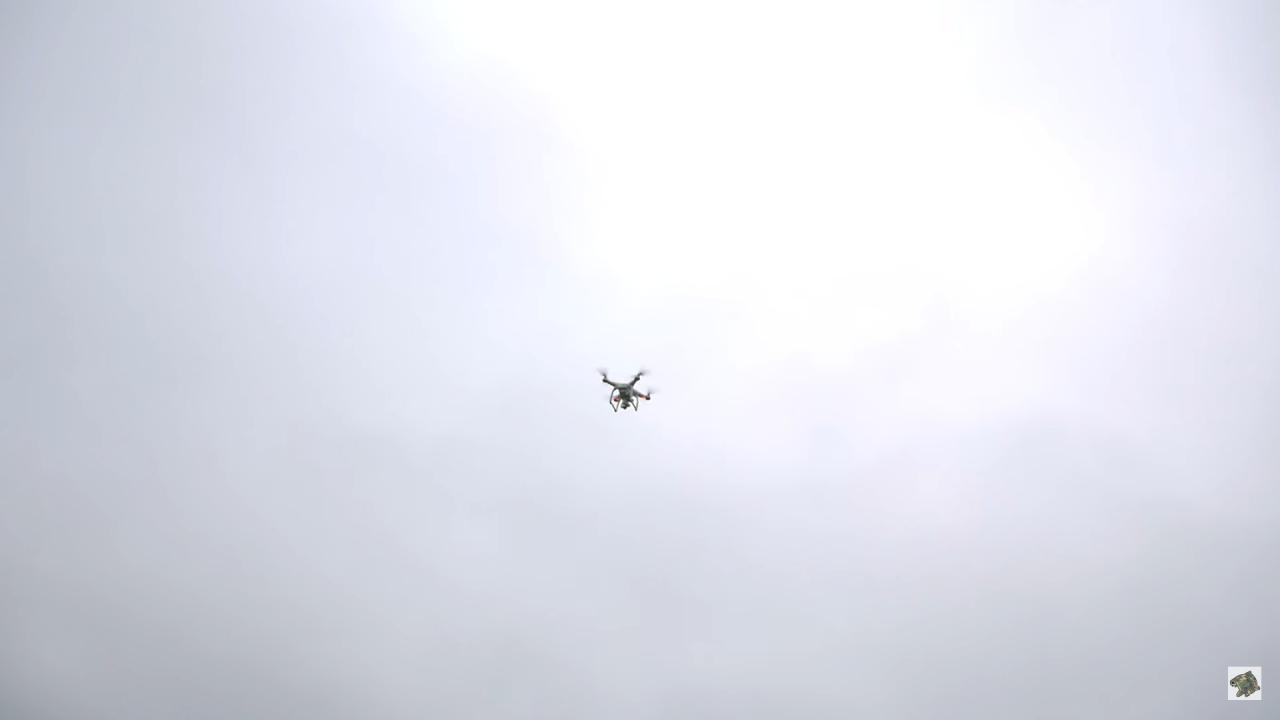Drone: (590, 349, 669, 430)
